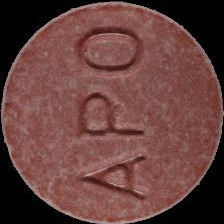49999-823: (0, 0, 224, 224)
